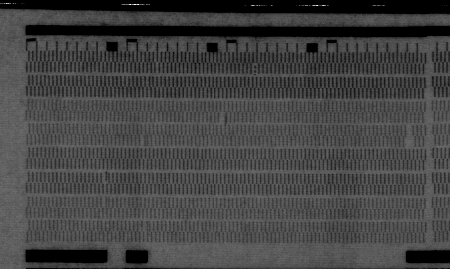Broken hole: (403, 125, 417, 148), (217, 112, 228, 122)
Oblique printing: (99, 172, 111, 186), (138, 134, 149, 147), (250, 63, 259, 77)
